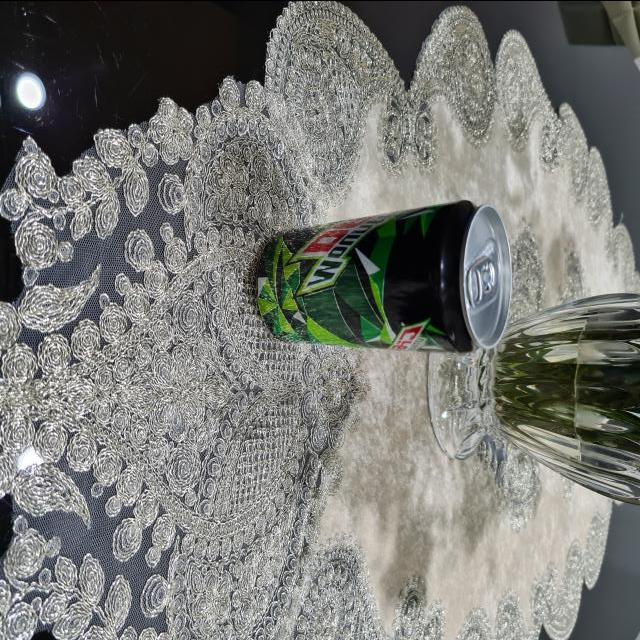can: (260, 189, 512, 362)
